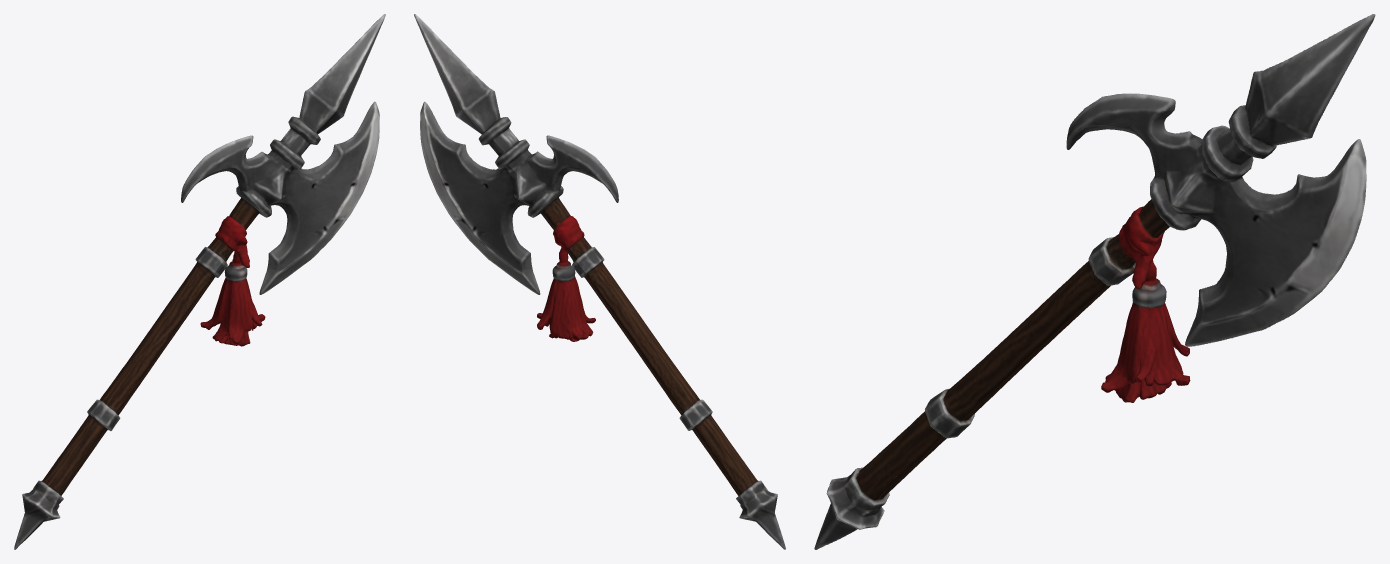
Rendered from halberd.glb.
The picture shows the model from 3 angles, left to right: view 1: azimuth 30°, elevation 25°; view 2: azimuth 150°, elevation 25°; view 3: azimuth 330°, elevation 25°; orthographic projection. The views are drawn at different scales.
Parts seen in each view (by area): view 1: world; view 2: world; view 3: world.
Part boxes in pixels (x1,y1,x2,y2): world: (14,14,385,549); world: (414,14,785,549); world: (814,14,1375,549).
Bounding box in the file's own units: 0.8752 × 1 × 0.1312.
Materials: 1 (1 with a texture image).
